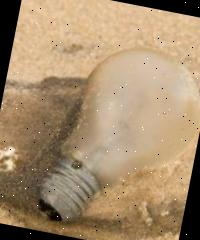lightbulb: (32, 31, 200, 240)
